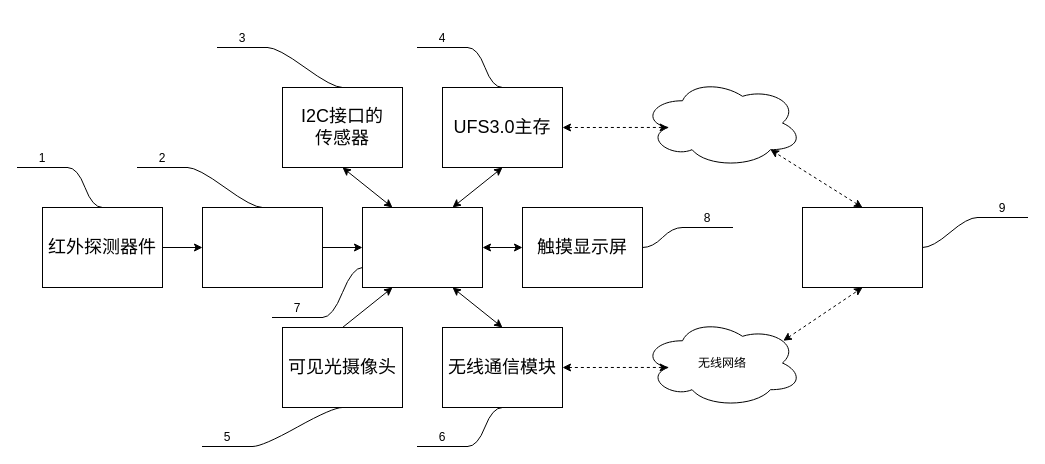
The diagram is 1045 pixels wide and 464 high, and some of its shapes have lost their labels. Each missing label, with the centre of its shape:
"ARM芯片" belongs at pixel 422 247.
"FPGA" belongs at pixel 262 247.
"USB传输协议" belongs at pixel 722 123.
"上位机" belongs at pixel 862 247.
